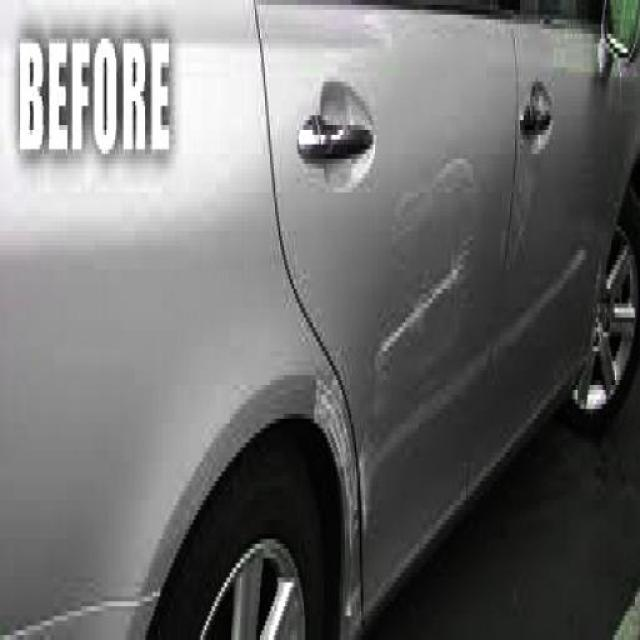Car-Damage: (310, 351, 373, 637), (379, 252, 468, 375)
